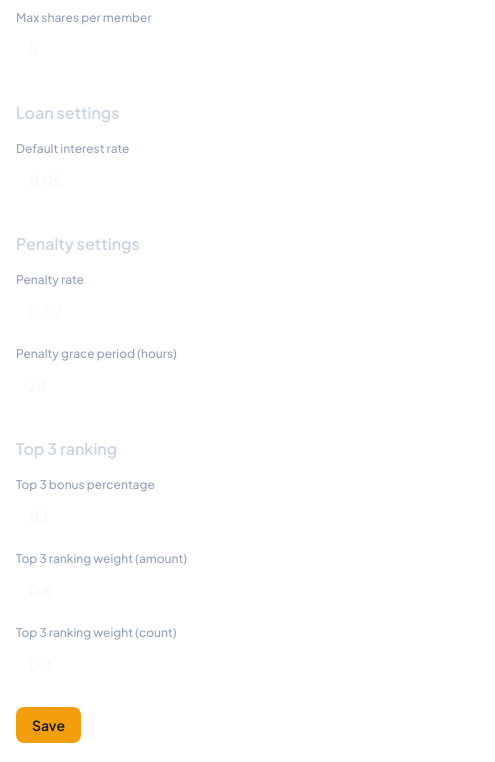
Test: SettingsPage › shows an error message when saving fails
The image size is (495, 762).
(page scrolled)
Click the button "Save". click: {"x": 48, "y": 725}
box: [16,707,81,743]
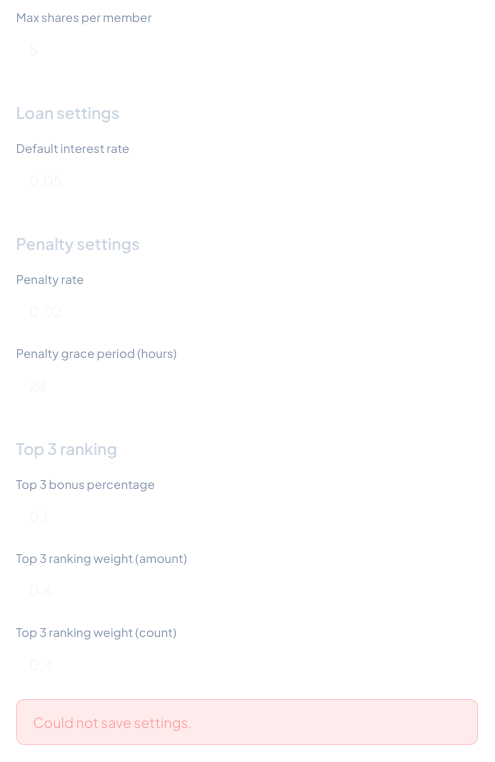
Expected: the message reads "Could not save settings.", [33,713,192,731]
